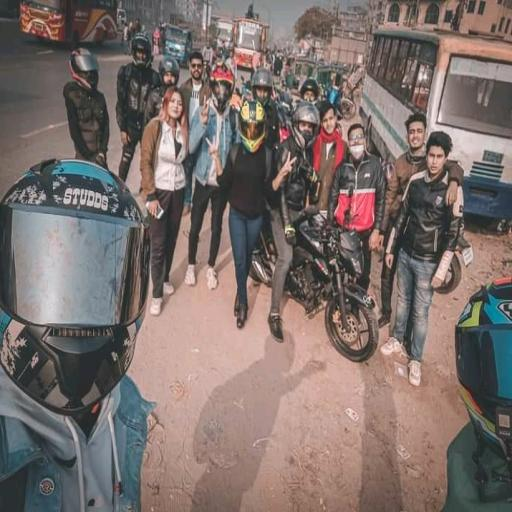overloading: (247, 206, 381, 364)
